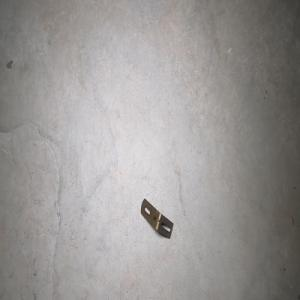MetalPart: (140, 197, 174, 239)
